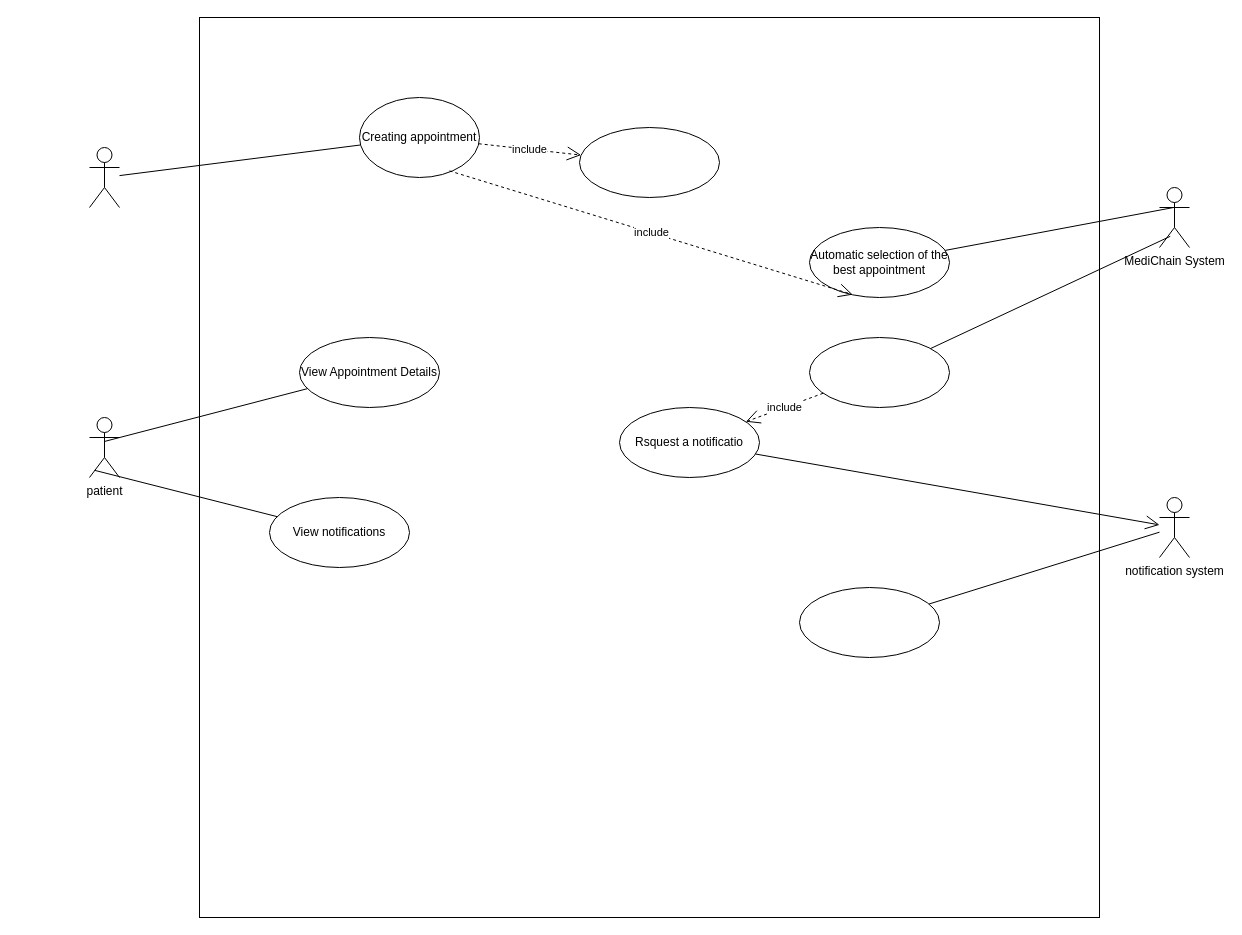
Image size: 1242x935. Some labels were removed from this diagram. Here are the shapes that lost their labels. From the top down, the centre of each, then its label:
At point 104,177: "administrative staff / schedualing".
At point 649,162: "Assign prepareation instructions".
At point 879,372: "Automated re-scheduling".
At point 869,622: "Send notification to patient".
